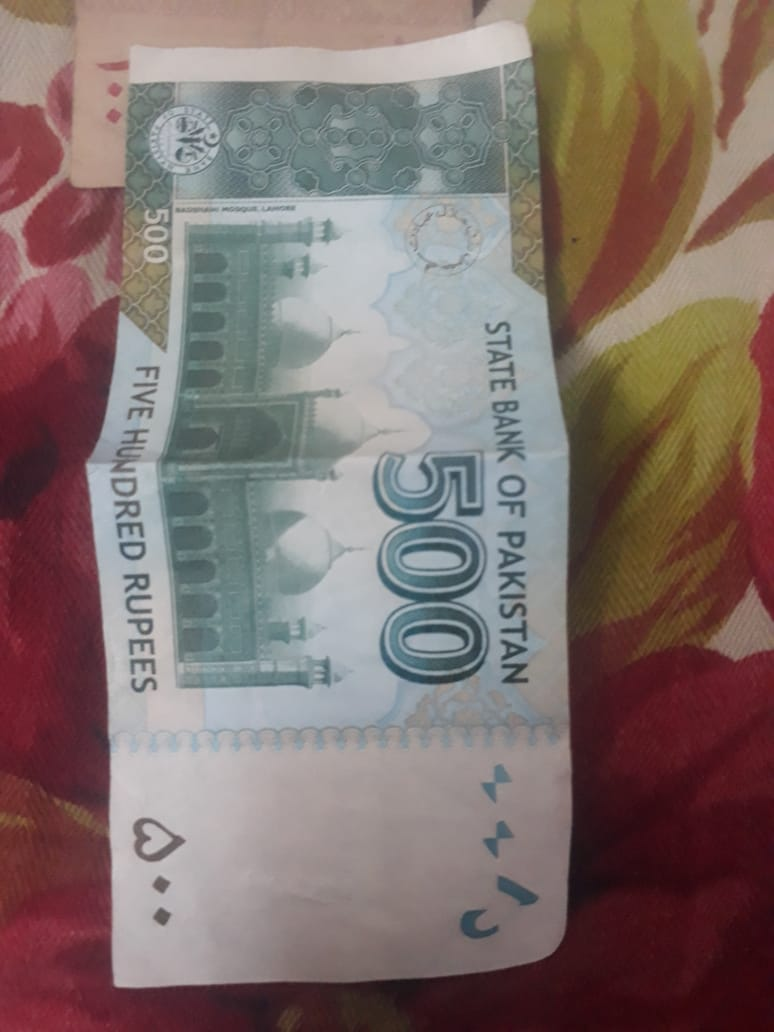500 rupee: (64, 44, 607, 1032)
